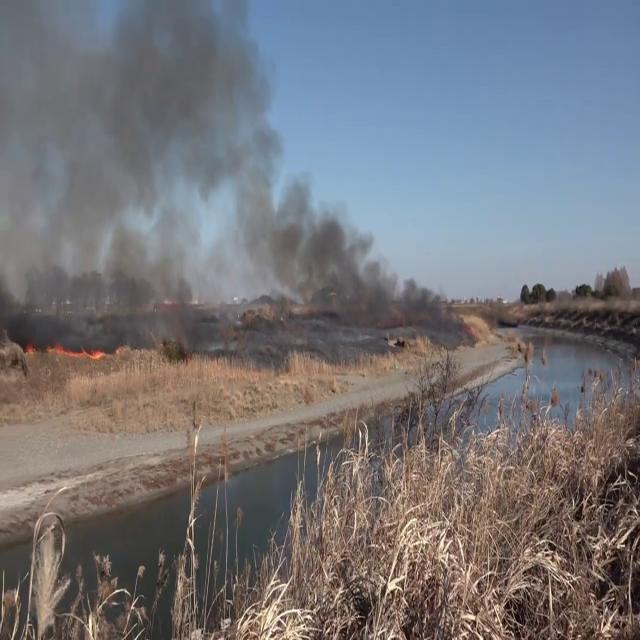Smoke: (0, 0, 298, 343), (257, 175, 448, 332)
